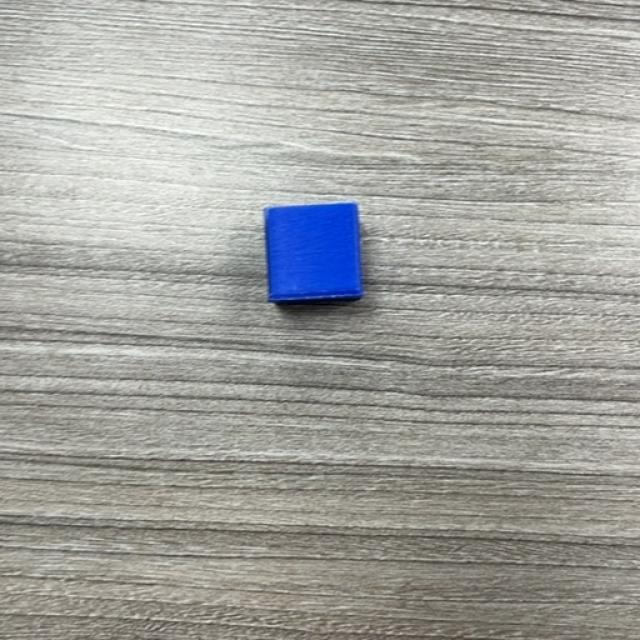Azul: (264, 202, 364, 306)
